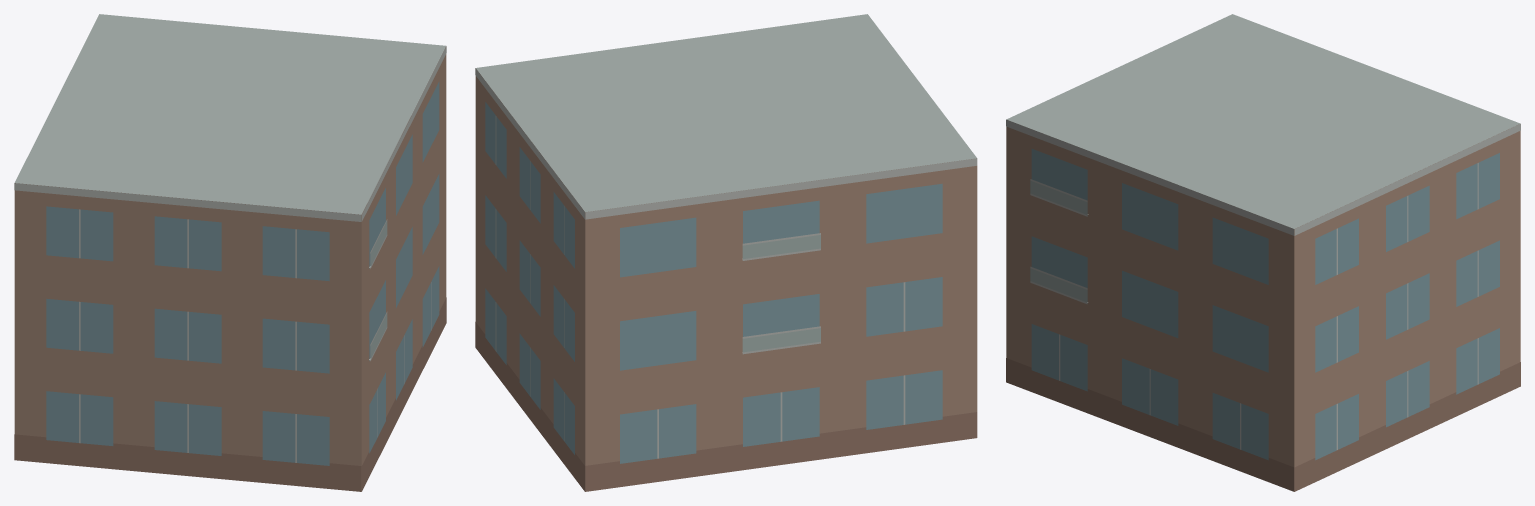
Rendered from survey-upis-32909220.glb.
The picture shows the model from 3 angles, left to right: view 1: azimuth 30°, elevation 25°; view 2: azimuth 150°, elevation 25°; view 3: azimuth 270°, elevation 25°; orthographic projection. The views are drawn at different scales.
Parts seen in each view (by area): view 1: survey-upis-32909220.tmp; view 2: survey-upis-32909220.tmp; view 3: survey-upis-32909220.tmp.
Boxes of the visible parts, left/top/right/bottom form: survey-upis-32909220.tmp: left=14, top=14, right=446, bottom=491; survey-upis-32909220.tmp: left=475, top=14, right=977, bottom=491; survey-upis-32909220.tmp: left=1006, top=14, right=1520, bottom=491.
Size of the model in its own units: 16.06 by 9.15 by 16.24.
